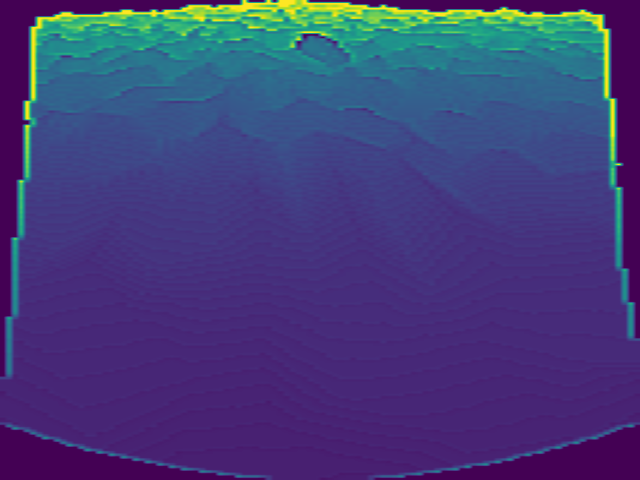car_0198: (292, 30, 354, 69)
